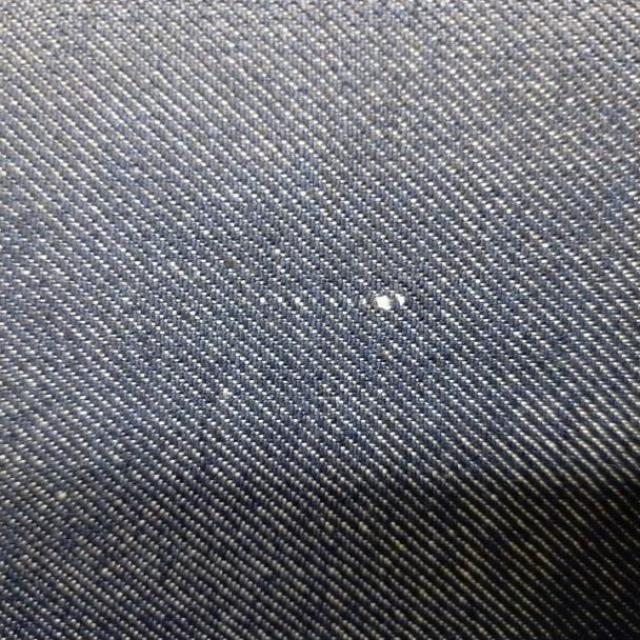Knot: (358, 291, 406, 311), (291, 294, 307, 312)
